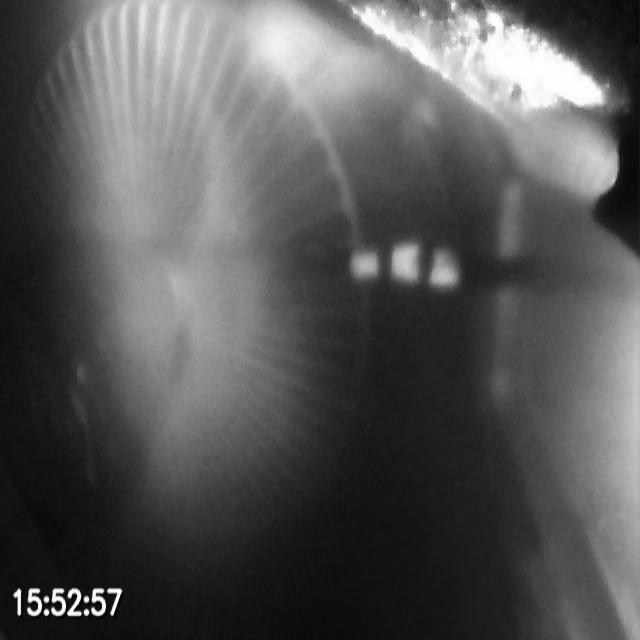white-dots: (348, 240, 462, 290)
